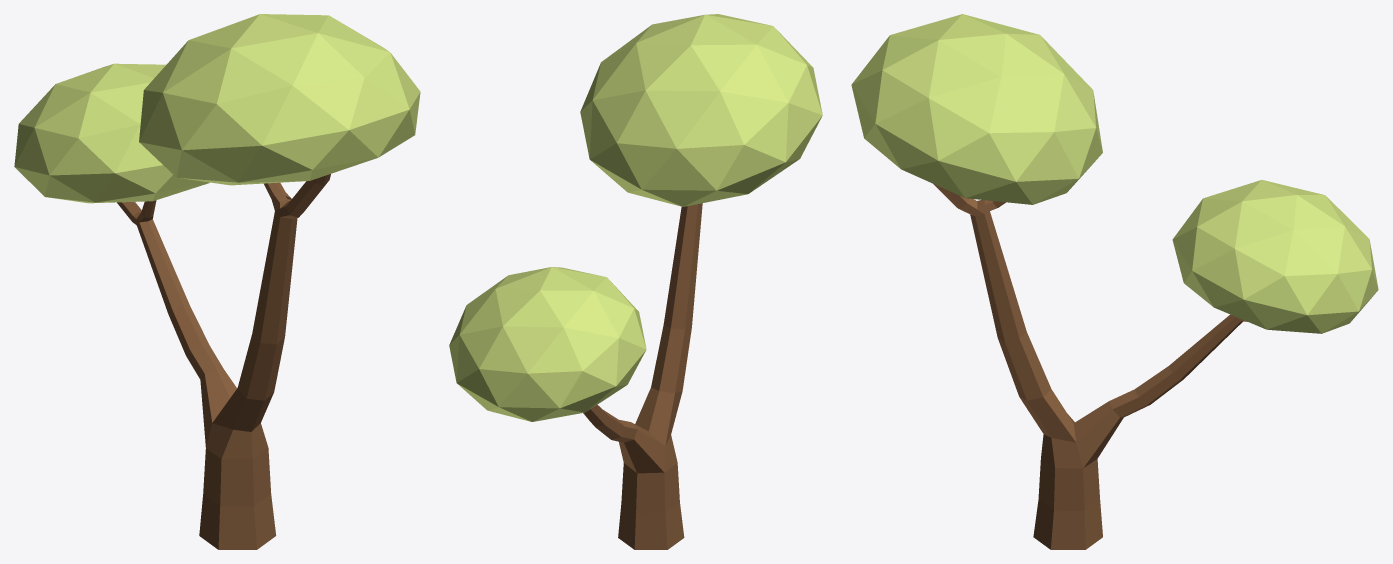
Rendered from Tree from the savanna-transformed.glb.
3 renders of one model, left to right at view 1: azimuth 30°, elevation 25°; view 2: azimuth 150°, elevation 25°; view 3: azimuth 270°, elevation 25°, orthographic. The views are drawn at different scales.
Parts seen in each view (by area): view 1: Tree2; view 2: Tree2; view 3: Tree2.
Part boxes in pixels (box(x1,y1,x2,y2)): Tree2: box(14, 14, 420, 549); Tree2: box(449, 14, 822, 549); Tree2: box(851, 14, 1378, 549).
Size of the model in its own units: 2.32 by 5.13 by 4.89.
